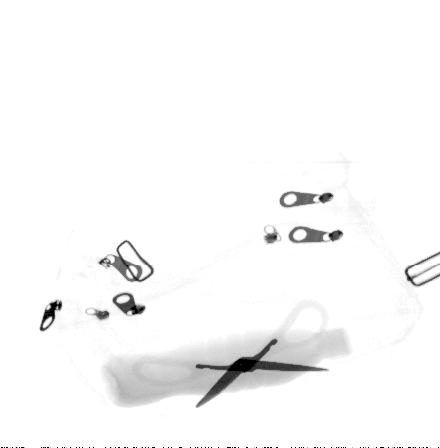Scissors: (132, 298, 332, 408)
